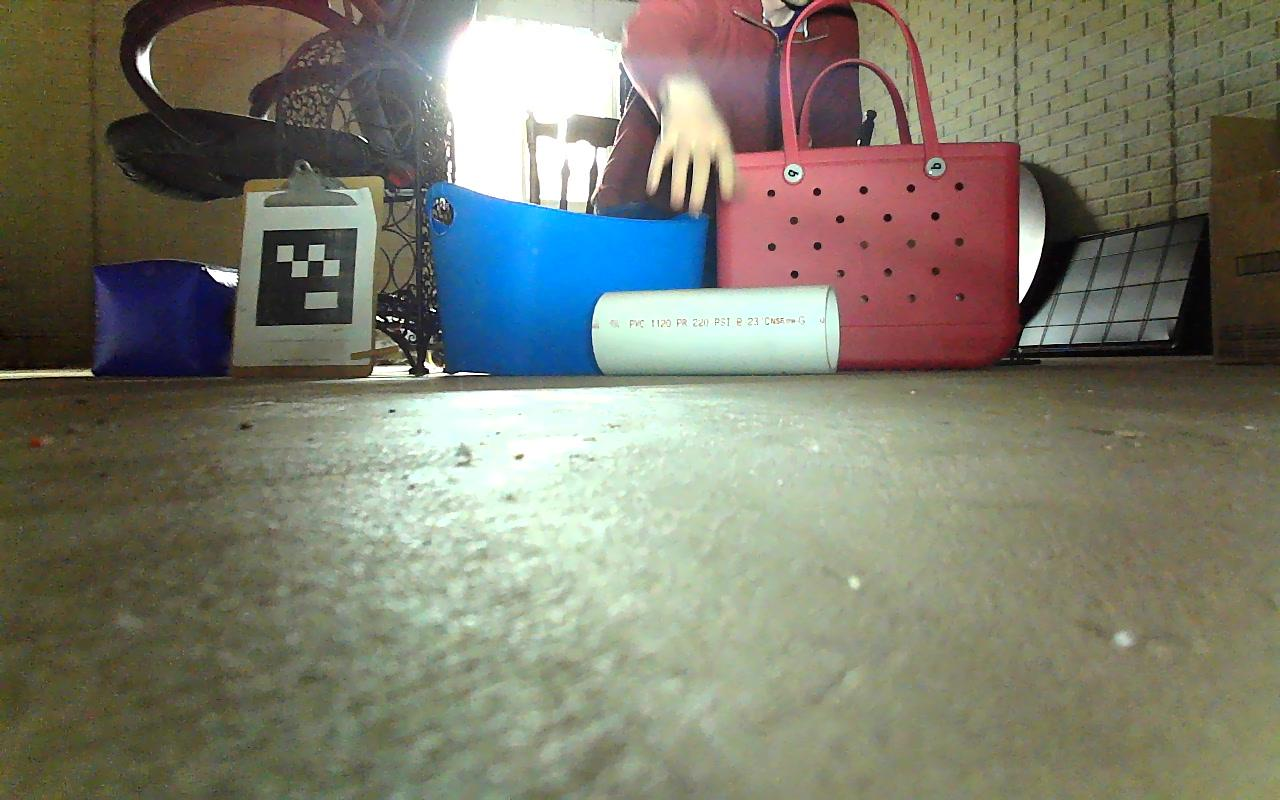coral: (591, 284, 838, 375)
